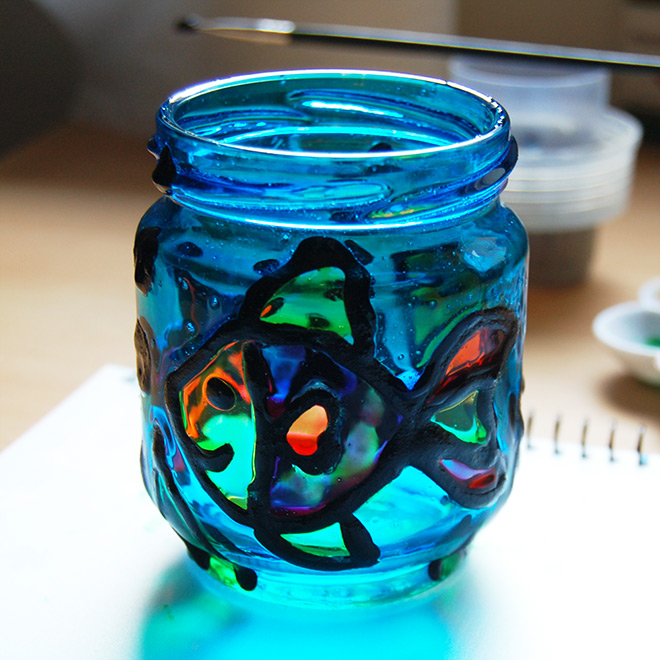glass_bottle: (125, 65, 535, 608)
